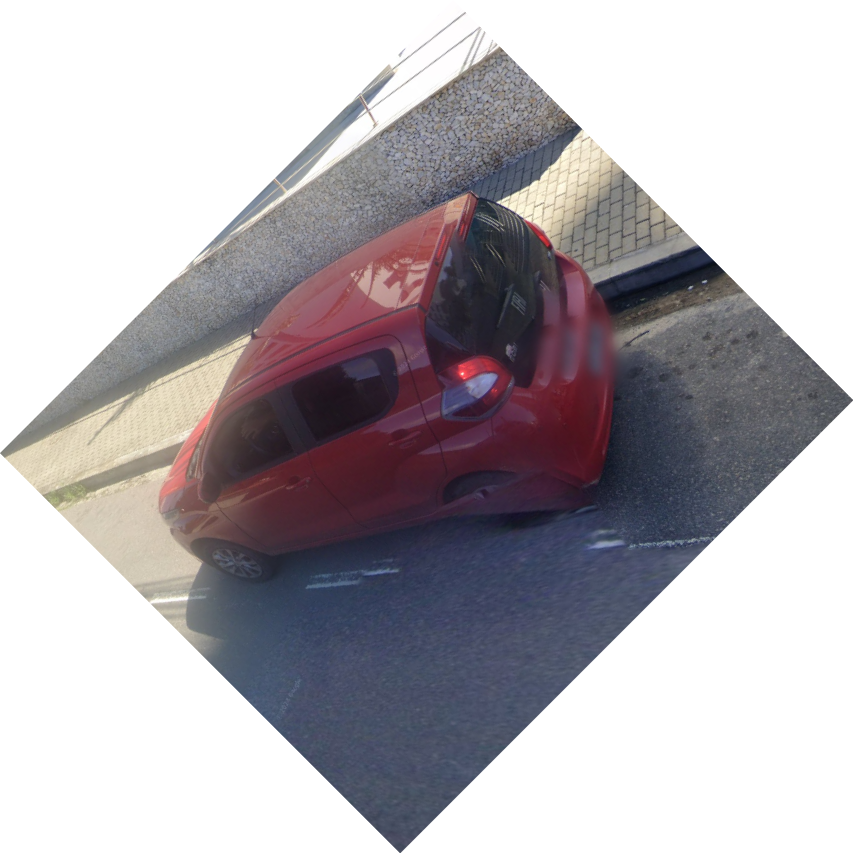car: (151, 182, 619, 588)
